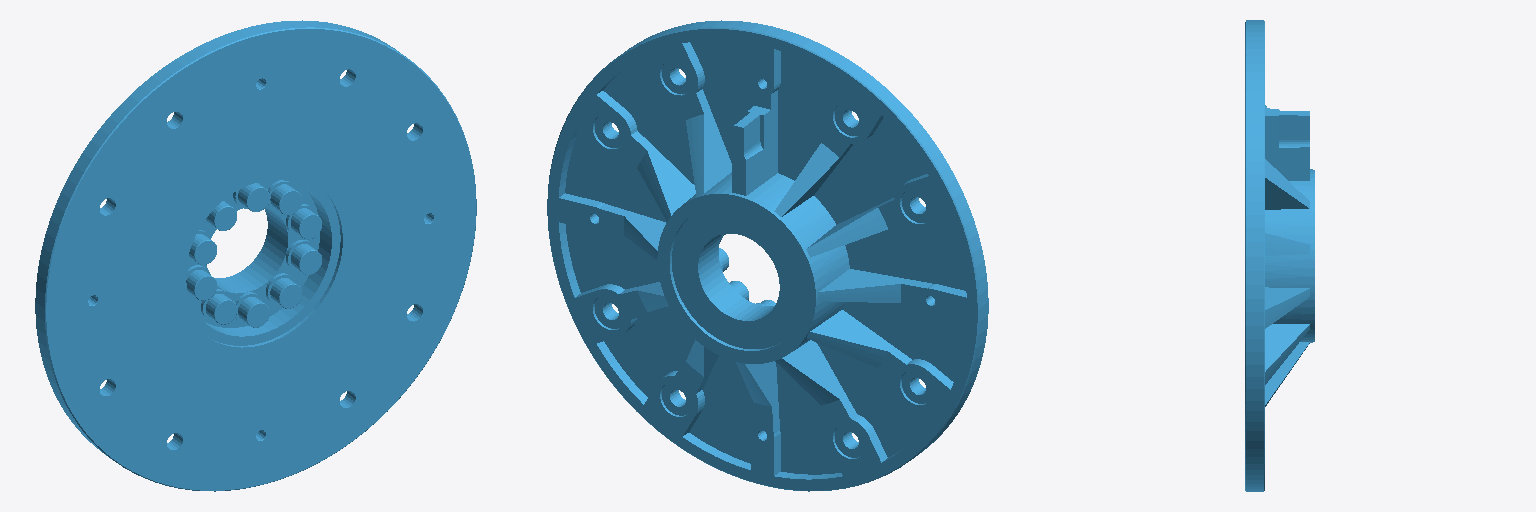
URDF robot description (Irbpl-1000_L1250_IRC5_rev02_CAD):
<?xml version="1.0" ?>
<robot name="Irbpl-1000_L1250_IRC5_rev02_CAD">

<link name="base_link">
  <inertial>
    <origin xyz="-0.0007423705168138692 -0.6784660997448527 0.5144731712732543" rpy="0 0 0"/>
    <mass value="1509.2153378617732"/>
    <inertia ixx="1213.248649" iyy="179.020534" izz="1061.185667" ixy="0.963275" iyz="-76.44417" ixz="0.445979"/>
  </inertial>
  <visual>
    <origin xyz="0 0 0" rpy="0 0 0"/>
    <geometry>
      <mesh filename="package://Irbpl-1000_L1250_IRC5_rev02_CAD_description/meshes/base_link.stl" scale="0.001 0.001 0.001"/>
    </geometry>
    <material name="silver"/>
  </visual>
  <collision>
    <origin xyz="0 0 0" rpy="0 0 0"/>
    <geometry>
      <mesh filename="package://Irbpl-1000_L1250_IRC5_rev02_CAD_description/meshes/base_link.stl" scale="0.001 0.001 0.001"/>
    </geometry>
  </collision>
</link>

<link name="Component2_1">
  <inertial>
    <origin xyz="5.913129006636238e-16 -0.0433678656005458 0.0011124864301171877" rpy="0 0 0"/>
    <mass value="21.25030383337243"/>
    <inertia ixx="0.231342" iyy="0.446816" izz="0.228504" ixy="-0.0" iyz="-0.000583" ixz="-0.0"/>
  </inertial>
  <visual>
    <origin xyz="-0.0 0.103 -0.949" rpy="0 0 0"/>
    <geometry>
      <mesh filename="package://Irbpl-1000_L1250_IRC5_rev02_CAD_description/meshes/Component2_1.stl" scale="0.001 0.001 0.001"/>
    </geometry>
    <material name="silver"/>
  </visual>
  <collision>
    <origin xyz="-0.0 0.103 -0.949" rpy="0 0 0"/>
    <geometry>
      <mesh filename="package://Irbpl-1000_L1250_IRC5_rev02_CAD_description/meshes/Component2_1.stl" scale="0.001 0.001 0.001"/>
    </geometry>
  </collision>
</link>

<joint name="j1" type="continuous">
  <origin xyz="0.0 -0.103 0.949" rpy="0 0 0"/>
  <parent link="base_link"/>
  <child link="Component2_1"/>
  <axis xyz="-0.0 1.0 0.0"/>
</joint>

</robot>

--- Facts derived from the render (not from the file) ---
Views: 3 orthographic renders of the robot side by side, from view 1: azimuth 30°, elevation 25°; view 2: azimuth 150°, elevation 25°; view 3: azimuth 270°, elevation 25°.
Robot: Irbpl-1000_L1250_IRC5_rev02_CAD — 2 links, 1 joints (1 continuous); root link base_link; default pose: all joints at 0.
Visible links, largest first — view 1: Component2_1; view 2: Component2_1; view 3: Component2_1.
Boxes of the visible links, x1=… form: Component2_1: x1=35, y1=20, x2=476, y2=491; Component2_1: x1=547, y1=20, x2=988, y2=491; Component2_1: x1=1245, y1=20, x2=1314, y2=491.
Bounding box of the posed robot: 0.4499 × 0.066 × 0.4499 m (x, y, z).
1 mesh visuals loaded from 2 distinct referenced files (1 binary STL); not drawn: 1 (reference not matched to a file when rendering).